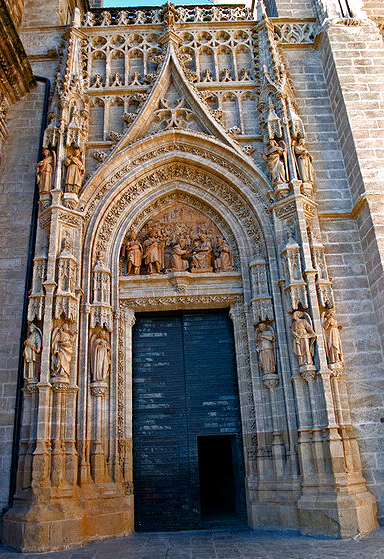arco-apuntado: (87, 125, 268, 274)
